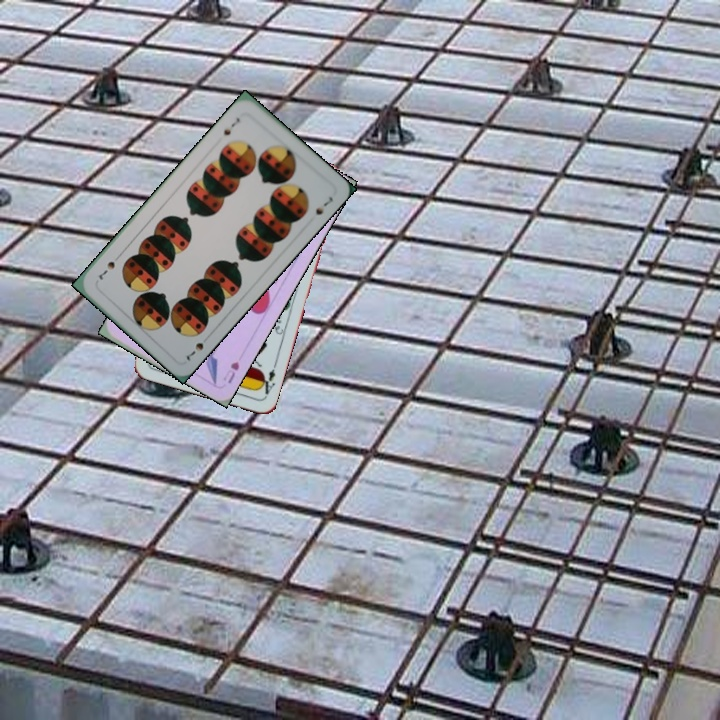EA: (255, 359, 279, 399)
HU: (219, 357, 242, 386)
S7: (182, 338, 206, 364), (220, 113, 242, 138)
